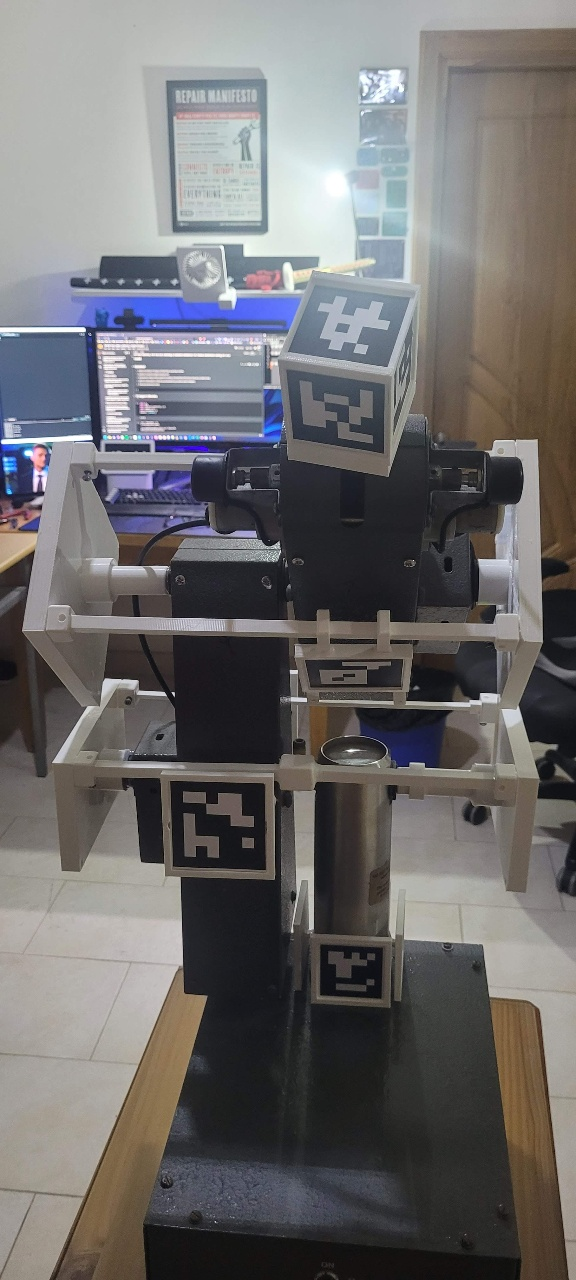Robot: (18, 267, 547, 1011)
